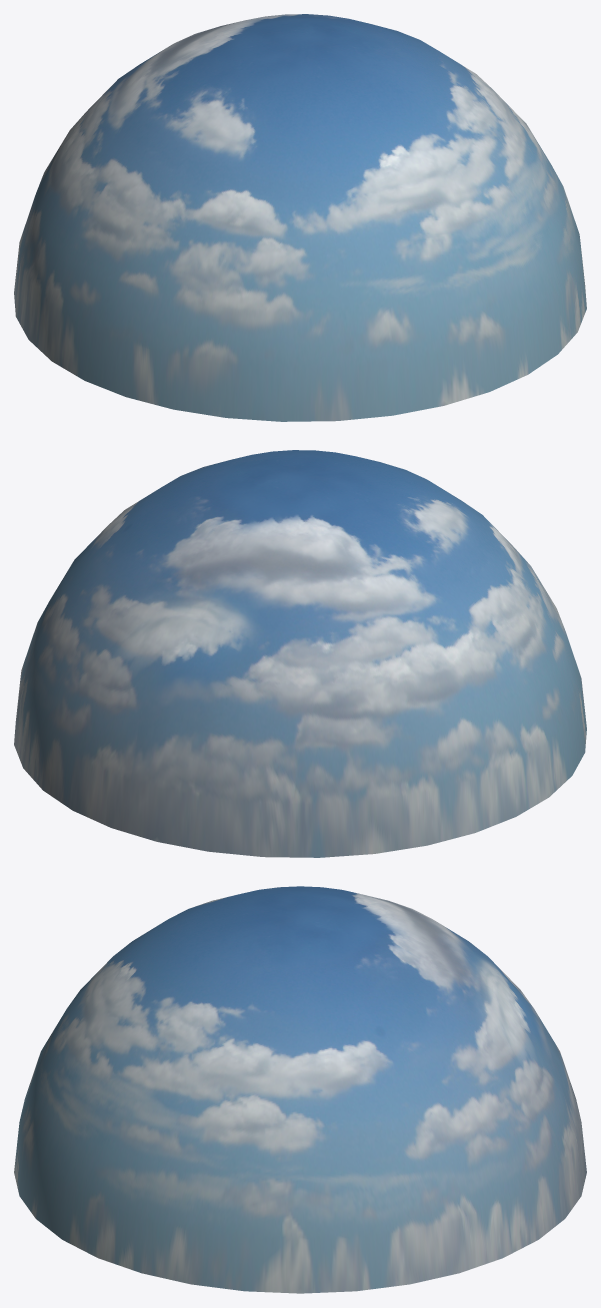
Rendered from Skybox.obj.
3 views of the same model, one above another, from view 1: azimuth 30°, elevation 25°; view 2: azimuth 150°, elevation 25°; view 3: azimuth 270°, elevation 25° (orthographic).
Visible parts, largest first — view 1: Kugel001; view 2: Kugel001; view 3: Kugel001.
Boxes of the visible parts, <box> form: Kugel001: <box>14,14,586,421</box>; Kugel001: <box>14,450,586,857</box>; Kugel001: <box>14,886,586,1293</box>.
Size of the model in its own units: 138 by 68.76 by 138.
